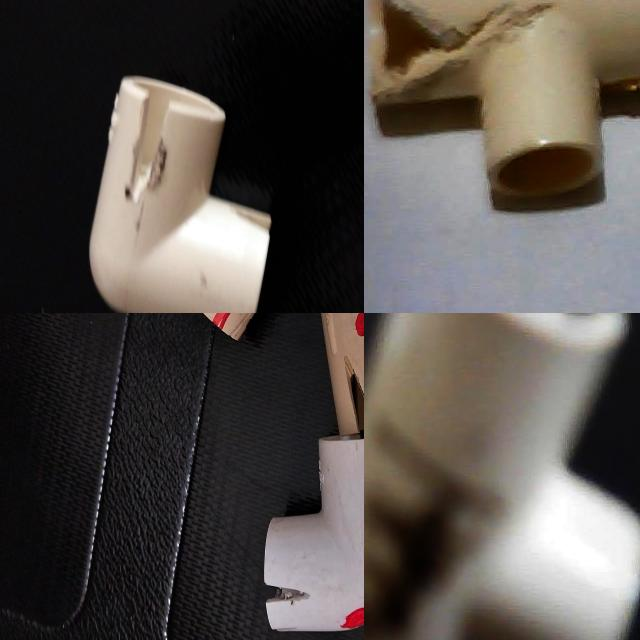Defective: (367, 419, 512, 640), (364, 0, 463, 112), (104, 523, 170, 550), (34, 386, 56, 451), (119, 296, 202, 313), (242, 532, 258, 613), (174, 500, 217, 524), (23, 493, 41, 539), (246, 319, 272, 350), (267, 573, 283, 607), (241, 507, 261, 529), (300, 494, 322, 512), (272, 620, 291, 640), (358, 591, 364, 628)
L Joint: (16, 385, 188, 572), (3, 0, 204, 123), (34, 280, 250, 313), (266, 573, 364, 640)
T Joint: (158, 442, 331, 612), (236, 313, 364, 506)
